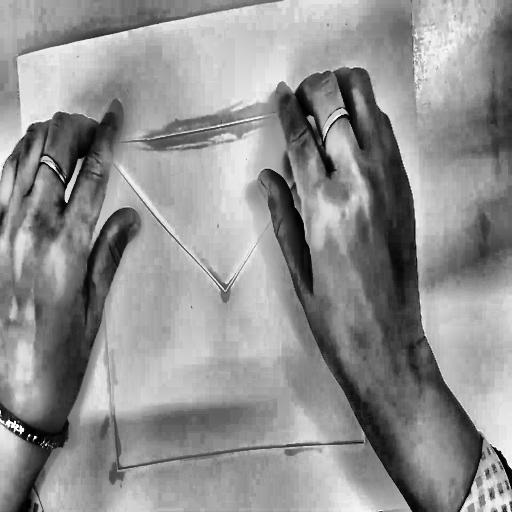envelop: (84, 93, 387, 480)
top_left: (15, 56, 19, 62)
